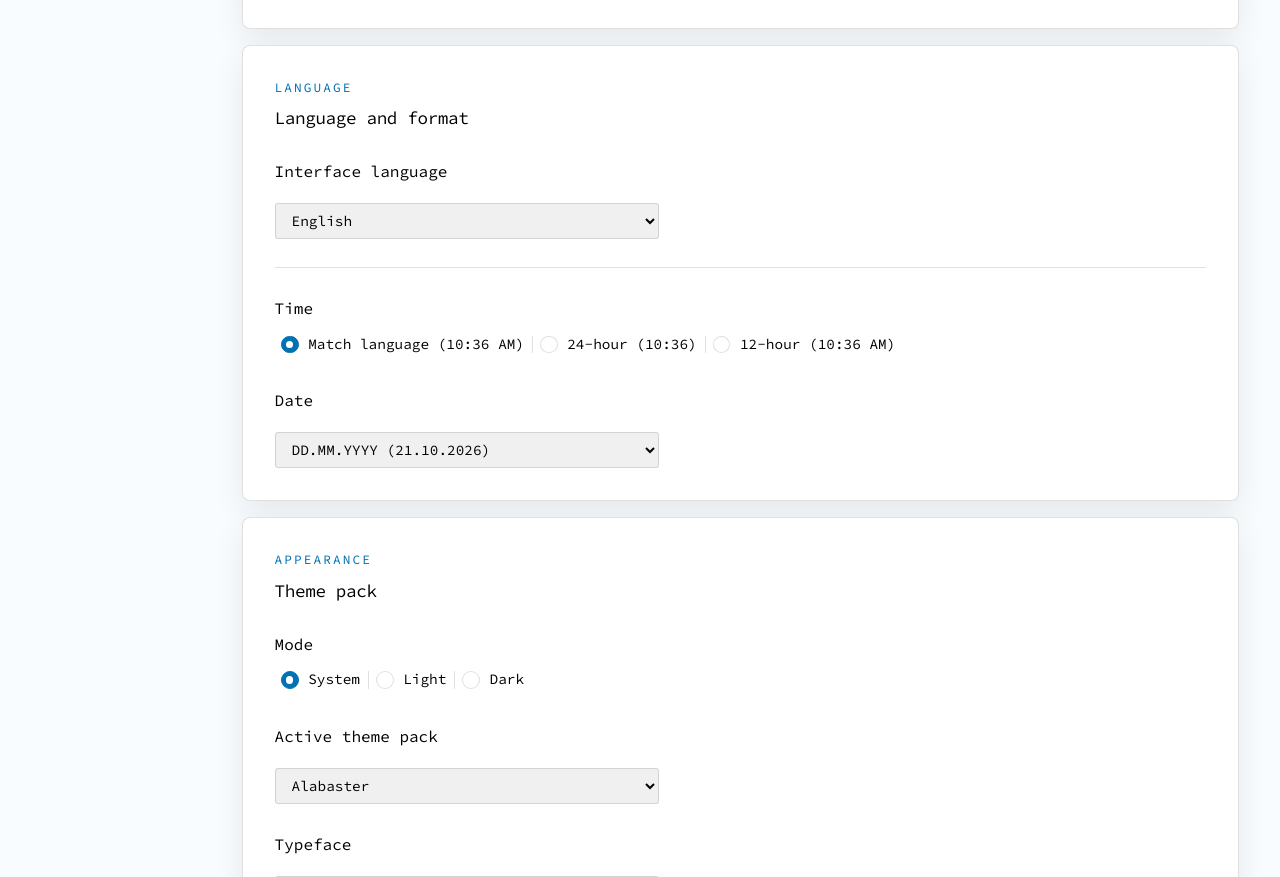
Test: SettingsView — formats › reveals a pattern field and token legend once Custom is picked, and applies it live
This screenshot has width=1280, height=877.
(page scrolled)
Select "Custom…" in the dropdown with id "date-format-select" at [467, 450], box [275,432,659,468]
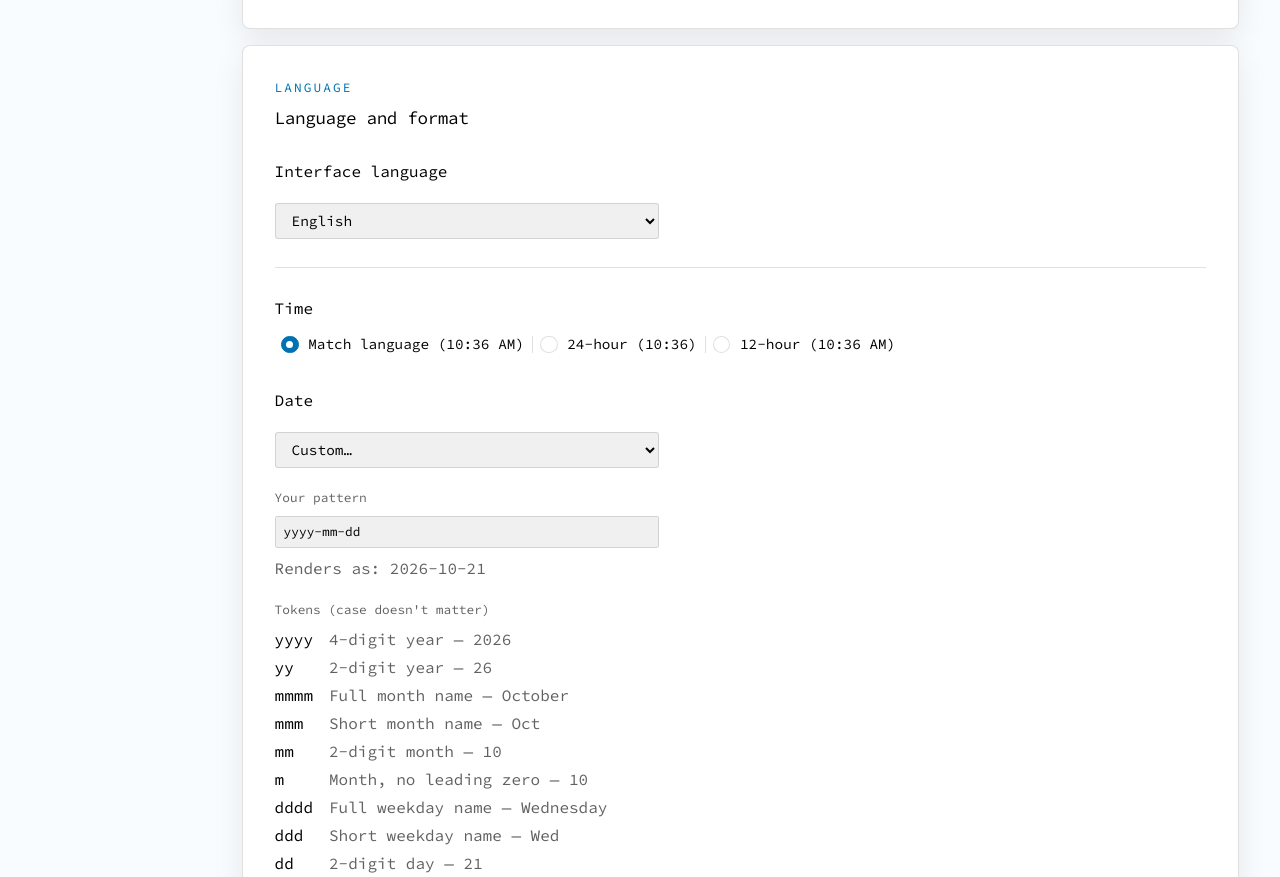
Now the text "4-digit year" is shown, box [329,629,511,649]
Replace the text in the field with id "date-format-custom-input" with "dddd, mmmm d yyyy" at [467, 532], box [275,516,659,548]
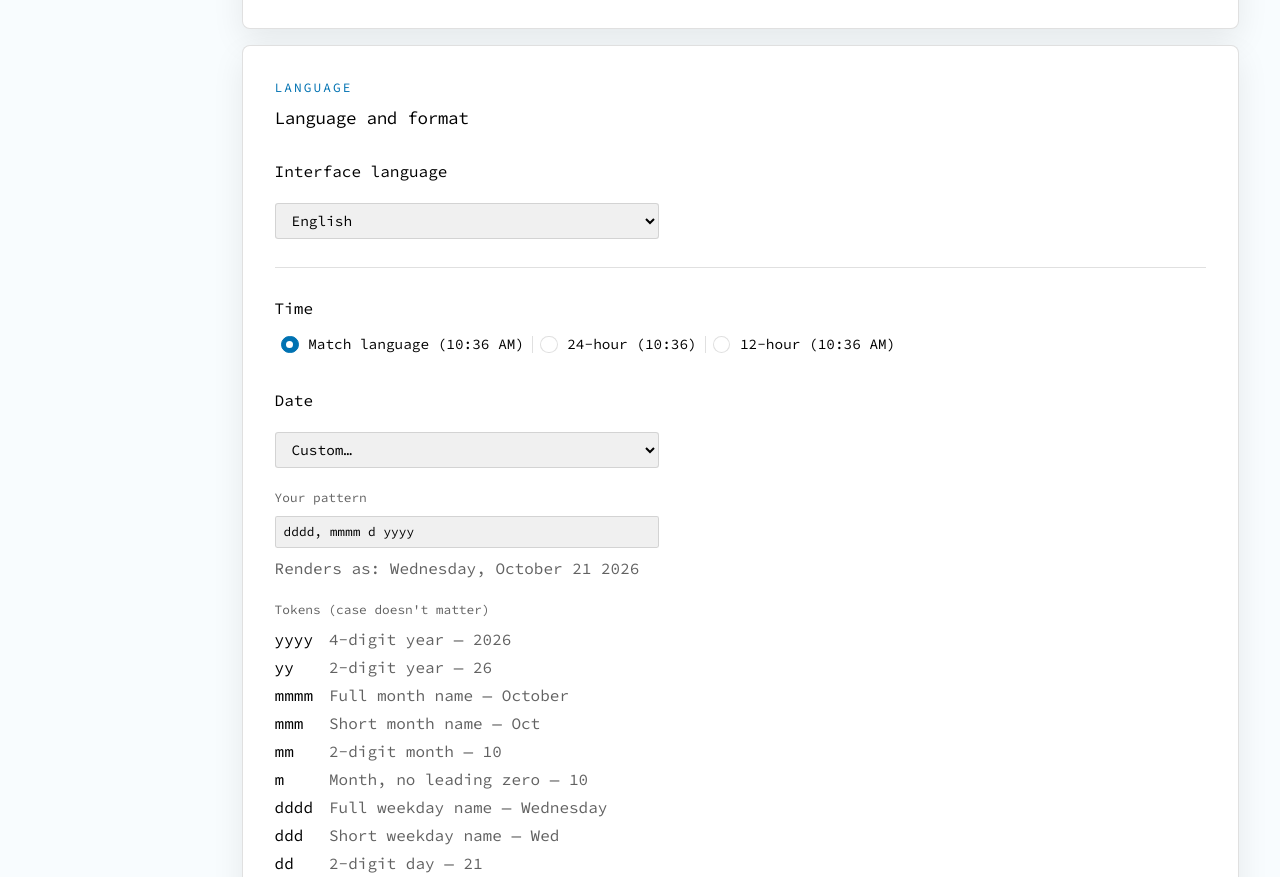
Now the text "Renders as: Wednesday, October 21 2026" is shown, box [275,558,639,578]
